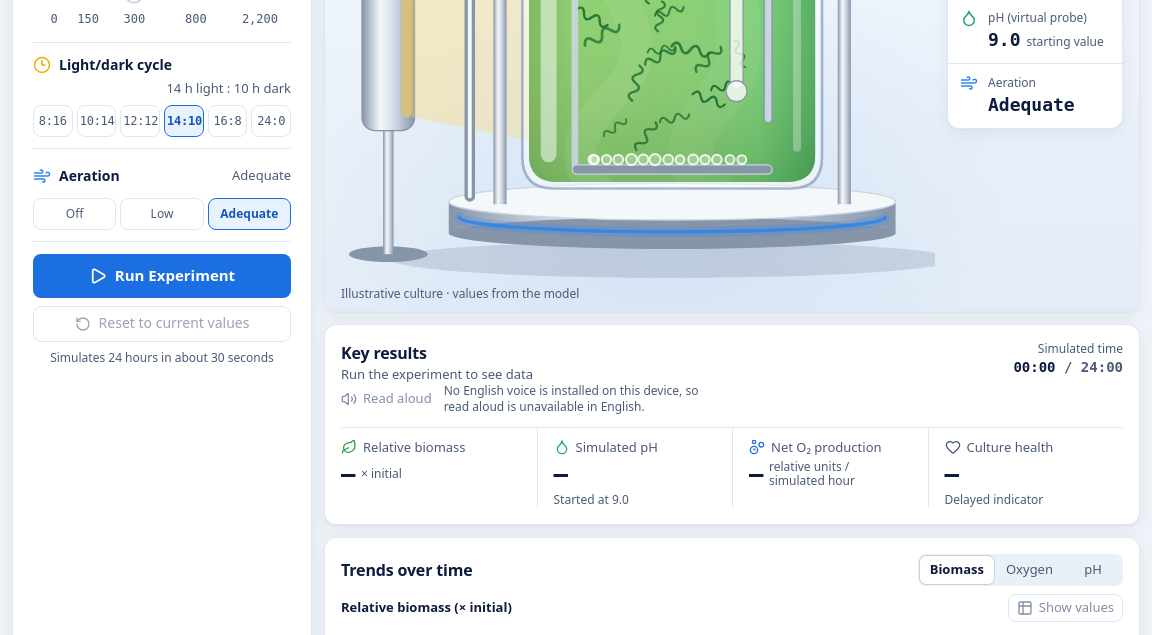
Test: interaction polish (ExecPlan 0004) › W17 Reset hands keyboard focus to Run Experiment instead of dropping it
(page scrolled)
Click the button with test id "run-button": click(162, 276) [33,254,291,298]
Wait 30500 ms
(page scrolled)
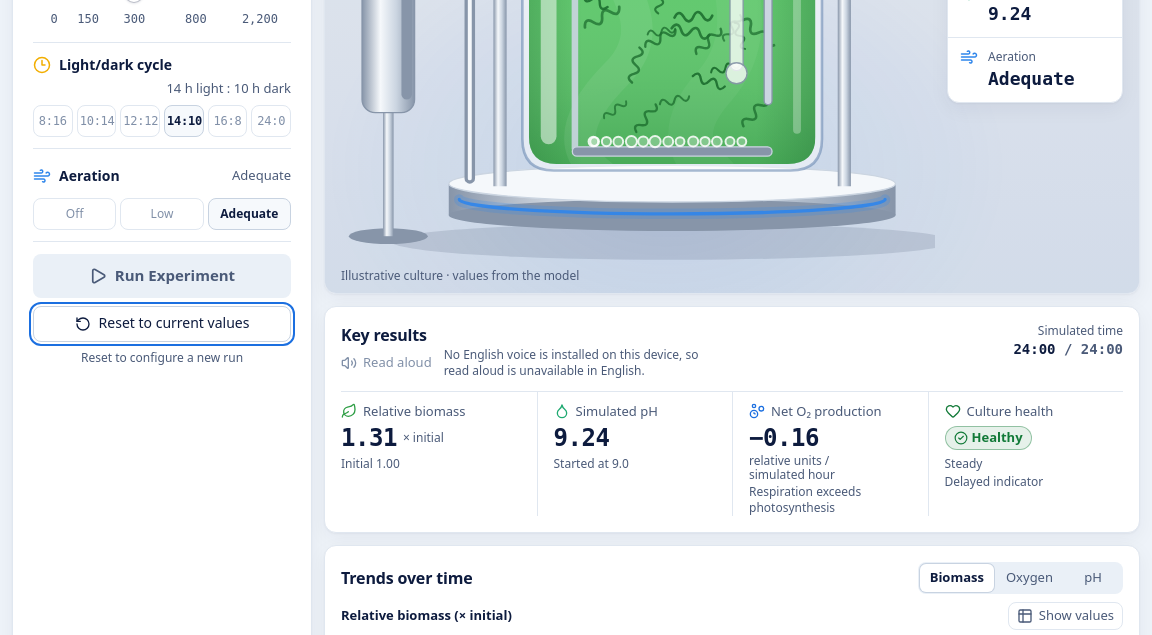
Press Enter
(page scrolled)
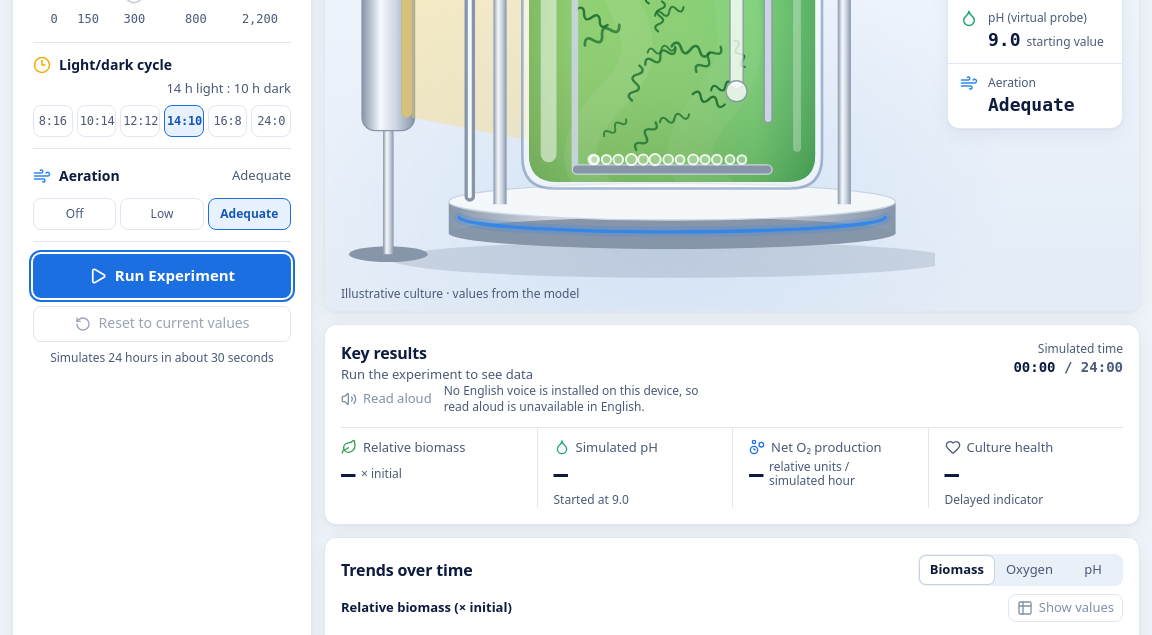
Check: the button with test id "run-button" is enabled, box [33,254,291,298]
